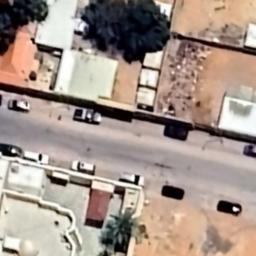SUV: (67, 158, 101, 178), (73, 107, 104, 127), (118, 167, 146, 189), (22, 148, 52, 168)
pickup: (215, 197, 245, 219), (162, 122, 192, 144), (158, 182, 188, 203), (8, 98, 34, 116), (242, 142, 256, 158)
sedan: (0, 140, 24, 162)
